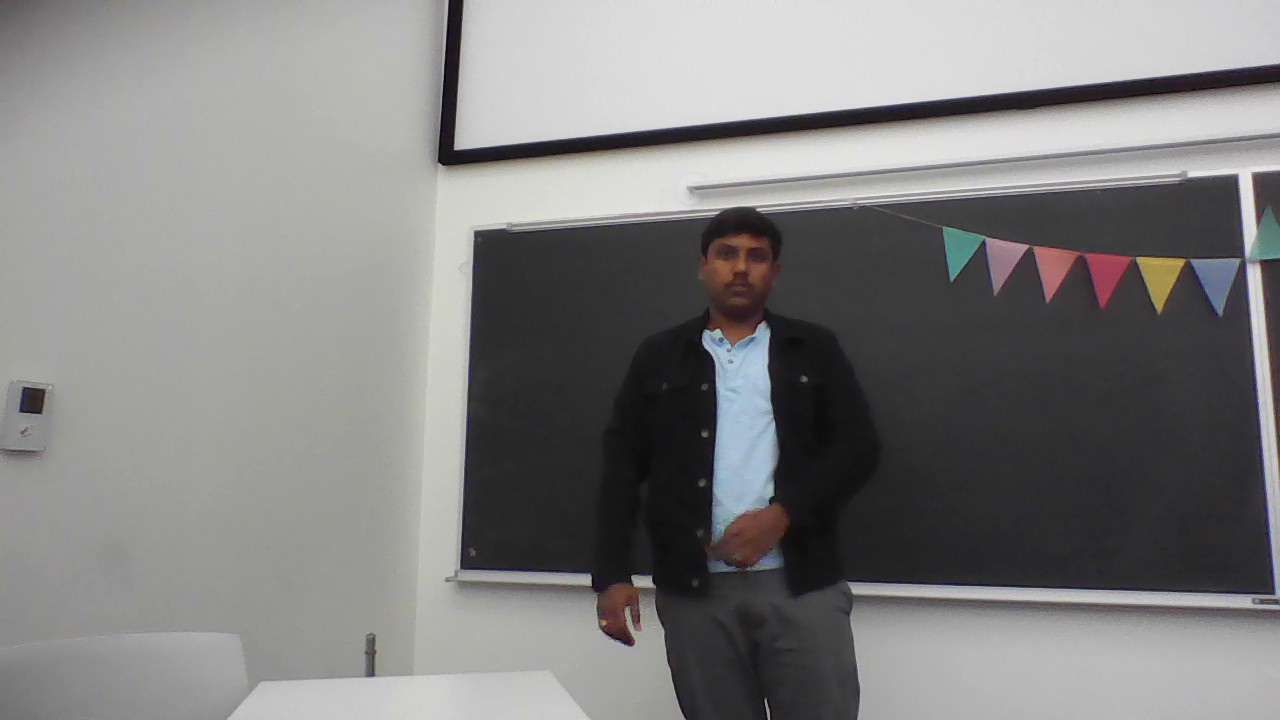height_frame: (583, 200, 896, 717)
hip_frame: (651, 564, 842, 586)
shoulder_frame: (639, 333, 829, 360)
waist_frame: (653, 485, 832, 505)
